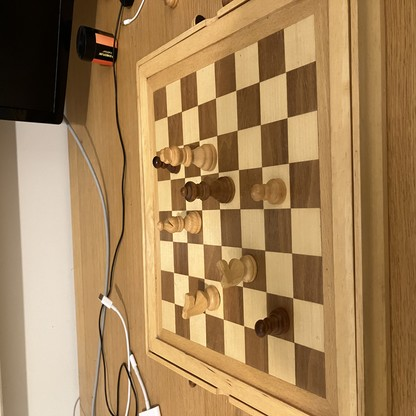bishop_white: (157, 211, 203, 235)
king_white: (161, 145, 216, 171)
knight_white: (217, 256, 258, 287), (182, 287, 221, 319)
pawn_black: (255, 307, 289, 337), (152, 157, 181, 174)
pawn_white: (252, 179, 287, 205)
queen_black: (181, 178, 236, 203)
